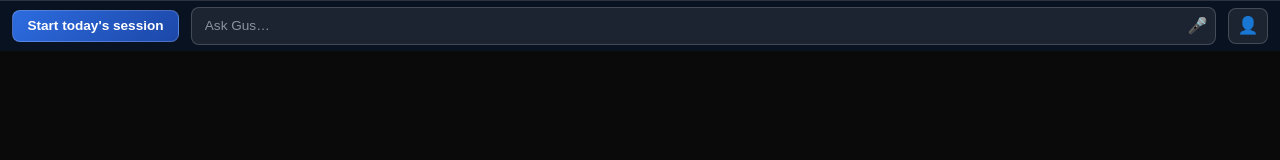
Test: VoiceTaskbar › replaces a typed draft with the transcription
Step 1. Type "old draft" into the field with test id "taskbar-ask-gus-input" → (689, 26), box [202,12,1176,40]
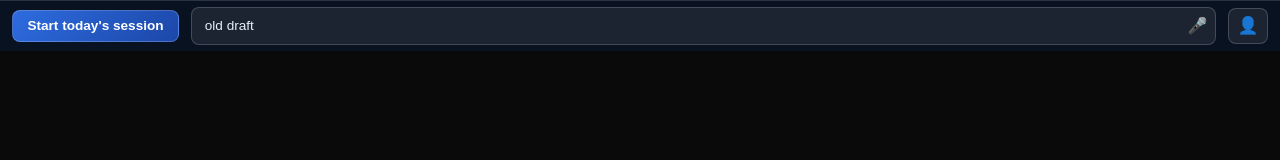
Step 2. Click the button with test id "taskbar-mic" → (1197, 26), box [1181,10,1213,42]
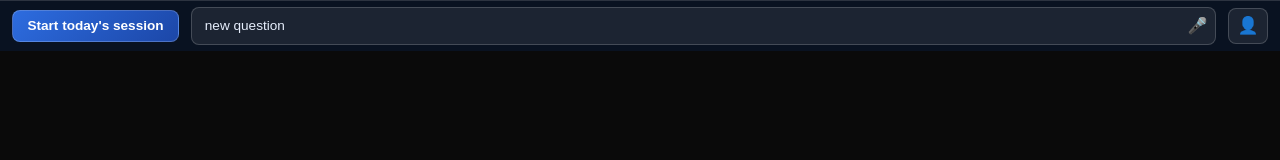
Check: the field with test id "taskbar-ask-gus-input" holds "new question", box [202,12,1176,40]
